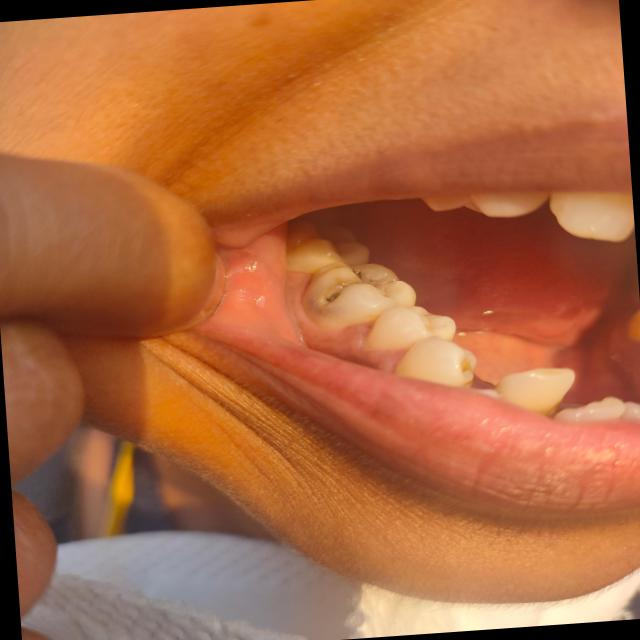Caries: (353, 271, 361, 279), (326, 298, 330, 301)
Cavity: (322, 280, 359, 303)
Tooth: (301, 262, 416, 329), (548, 191, 634, 242), (361, 305, 456, 351), (287, 220, 369, 273), (395, 336, 476, 388), (493, 367, 575, 416), (553, 395, 627, 419)
